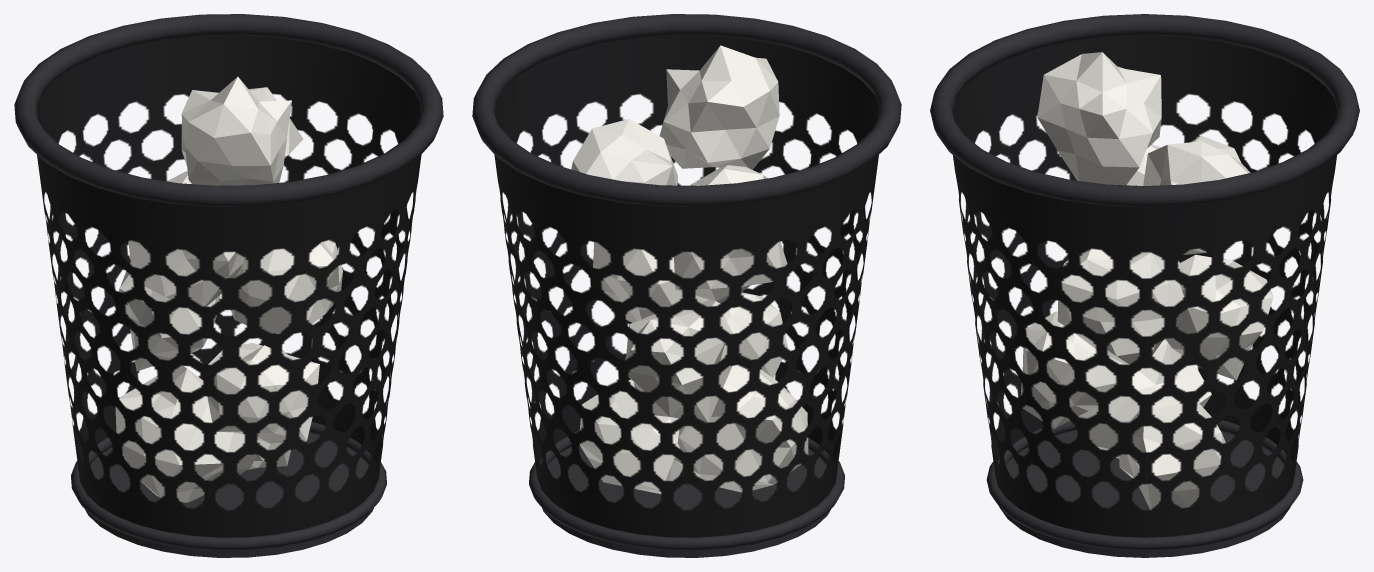
Rendered from trash_bin.glb.
3 renders of one model, left to right at view 1: azimuth 30°, elevation 25°; view 2: azimuth 150°, elevation 25°; view 3: azimuth 270°, elevation 25°, orthographic.
Parts seen in each view (by area): view 1: trash_bin; view 2: trash_bin; view 3: trash_bin.
Boxes of the visible parts, <box> form: trash_bin: <box>14,14,443,557</box>; trash_bin: <box>472,14,901,557</box>; trash_bin: <box>930,14,1359,557</box>.
Size of the model in its own units: 0.304 by 0.3411 by 0.304.
3 materials, 1 textured.
